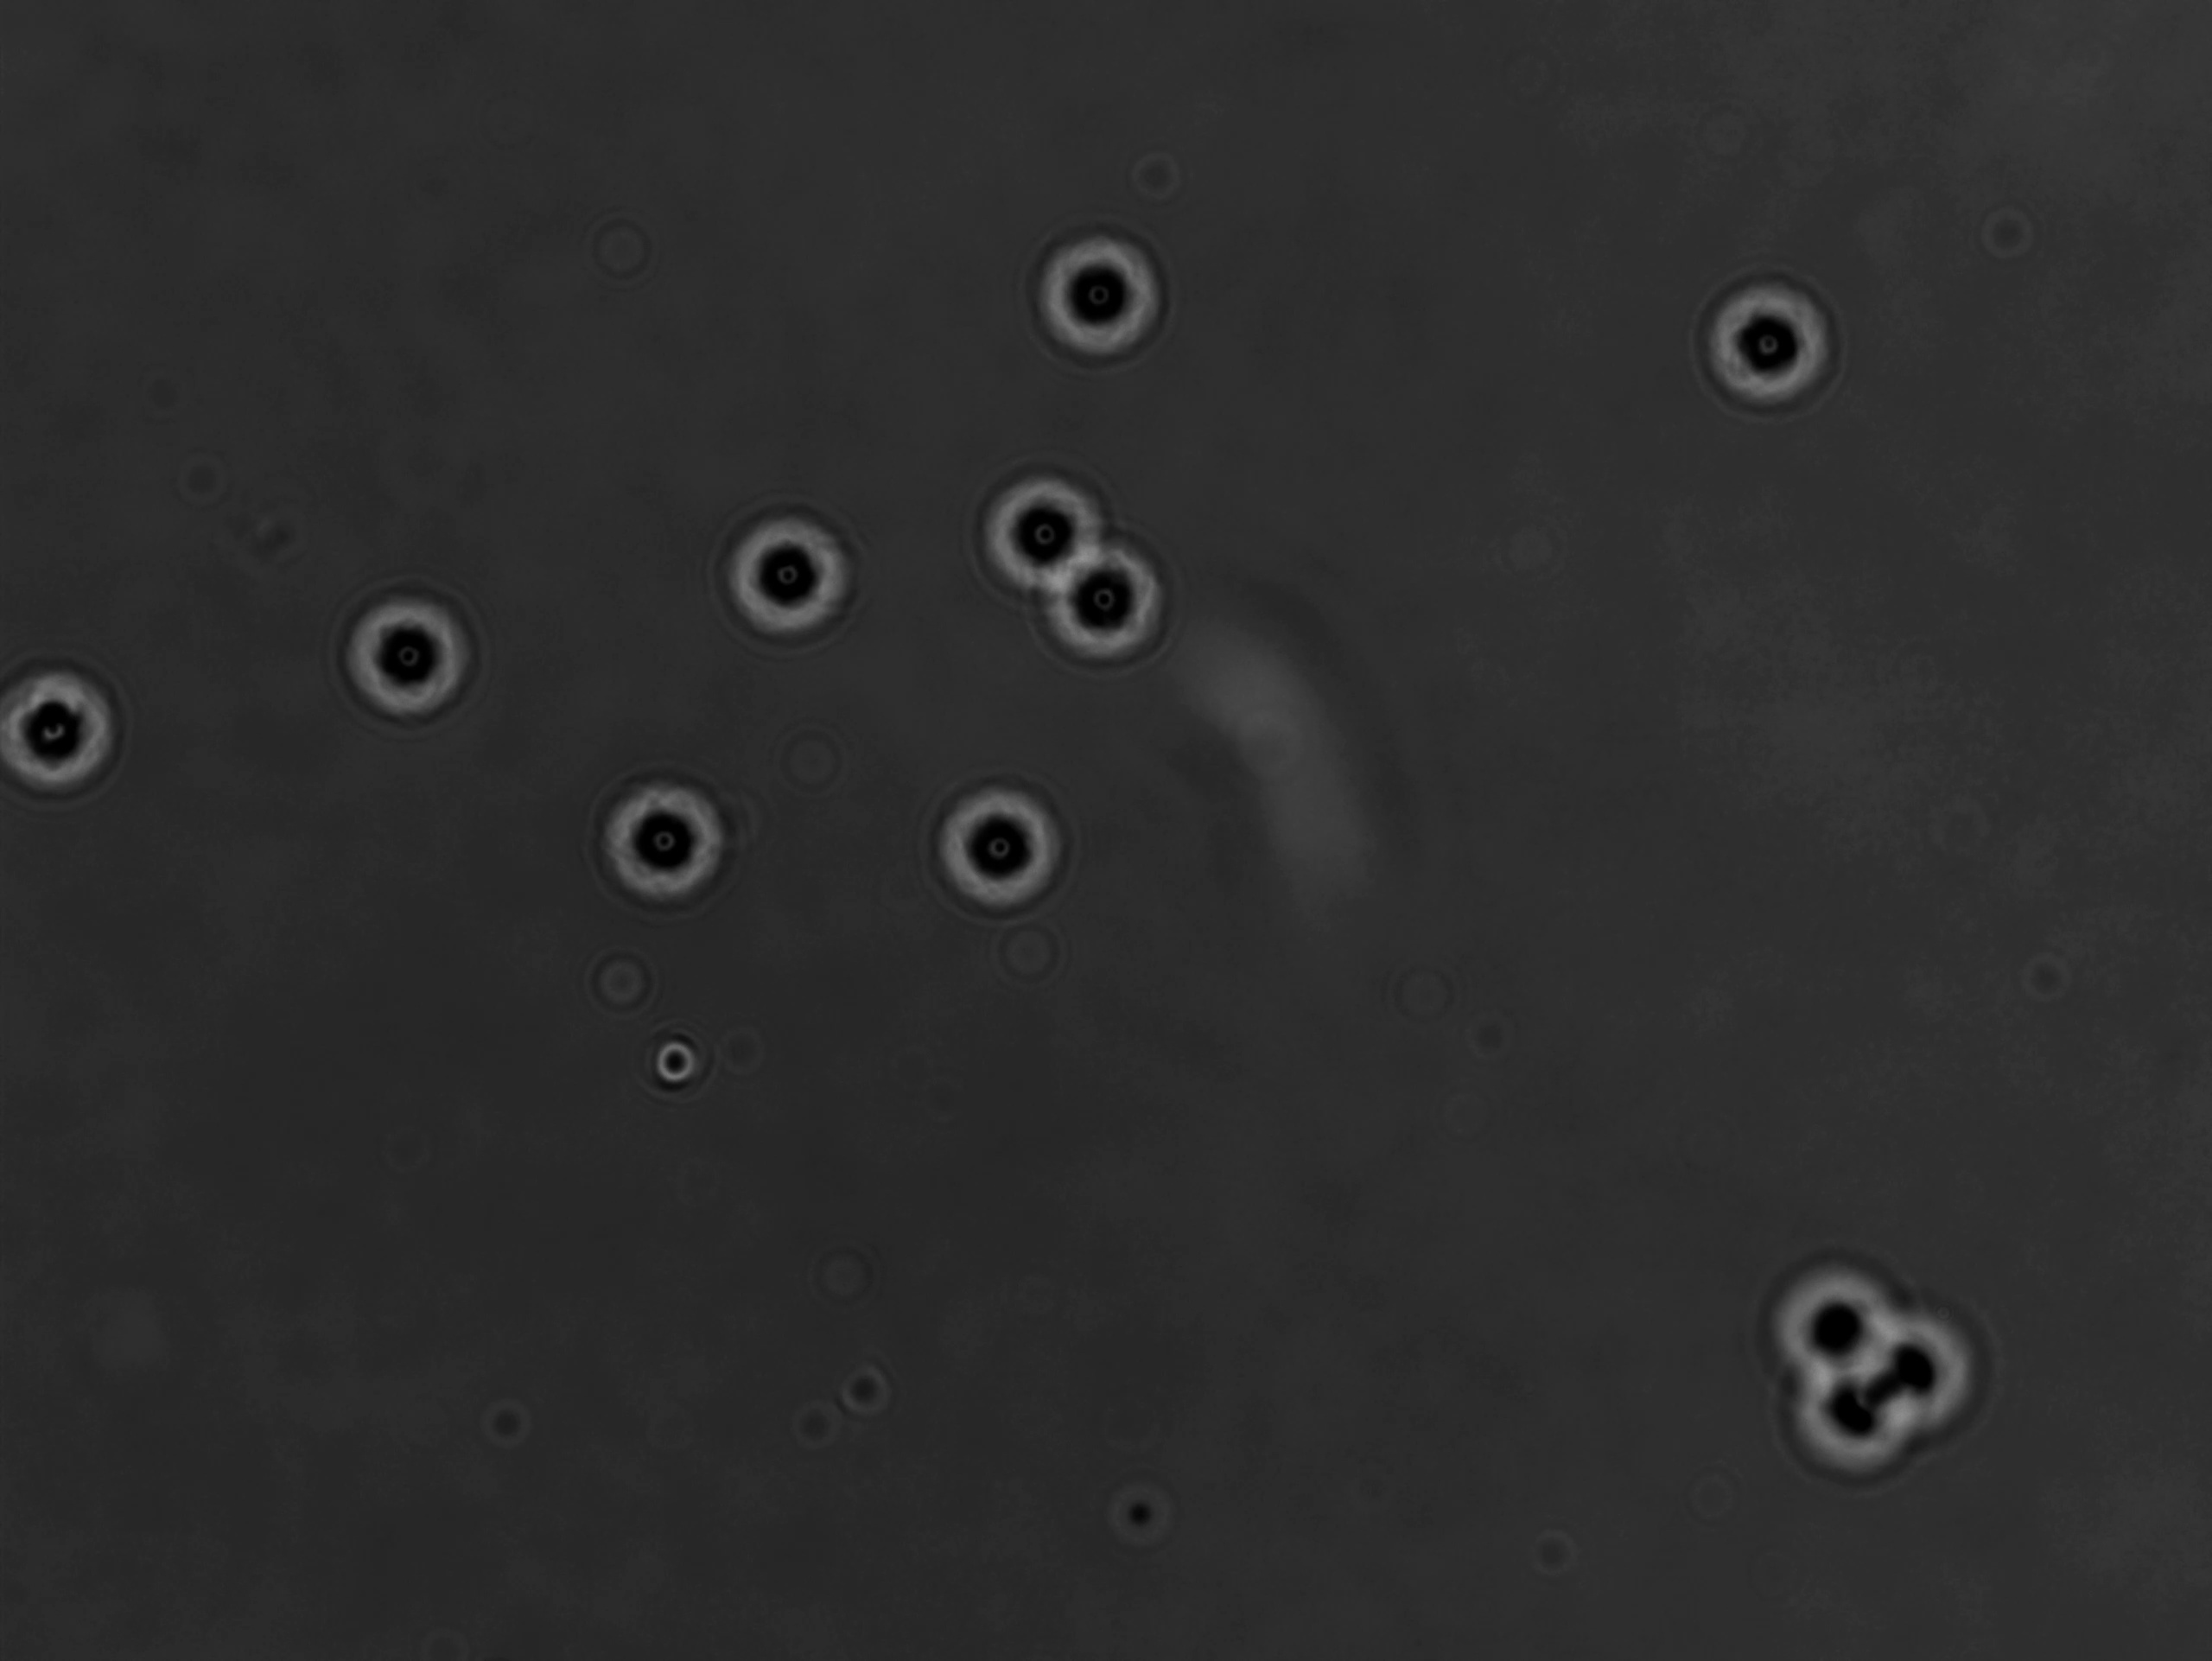depth:-20: (700, 476, 890, 663), (323, 546, 509, 733), (1685, 255, 1858, 429), (1755, 1228, 1926, 1403), (1015, 208, 1186, 379), (577, 754, 755, 918), (918, 771, 1089, 937), (966, 459, 1134, 626), (1034, 527, 1197, 684)
